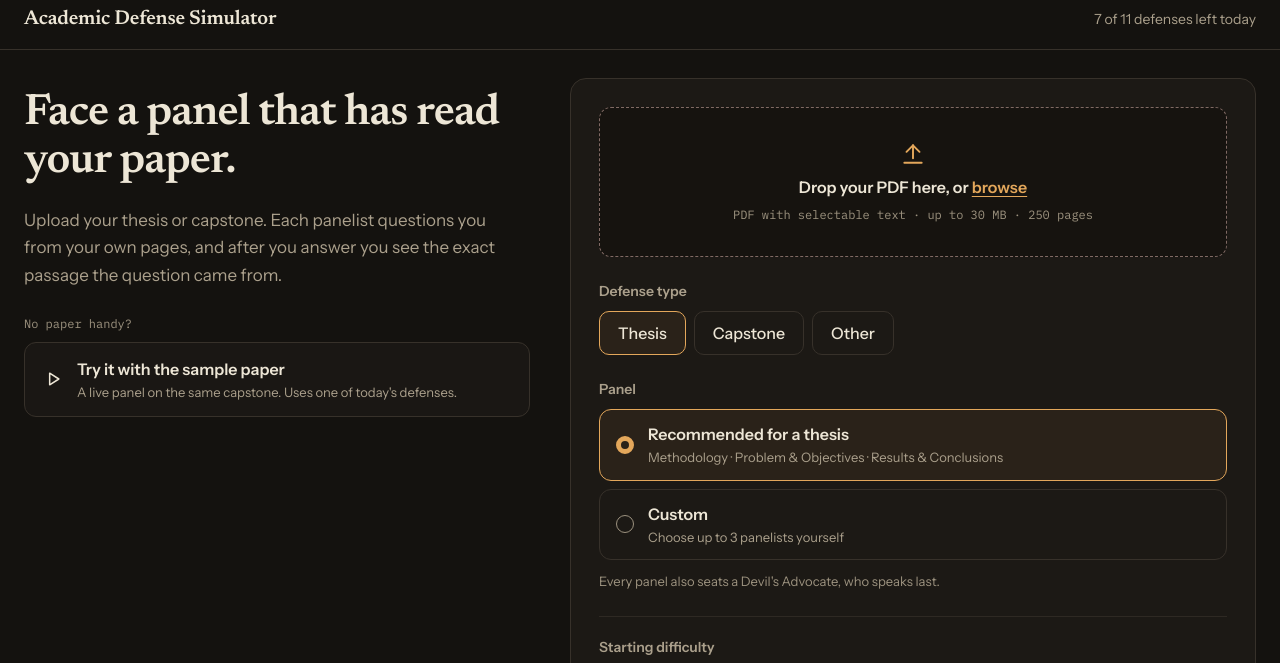
Try it with the sample paper (N5) › says so when the sample paper cannot be loaded
Expected: the text "7 of 11 defenses left today" is shown, [1094, 9, 1256, 29]
Click the button "Try it with the sample paper". click: (277, 379)
box: [24, 342, 530, 417]
(page scrolled)
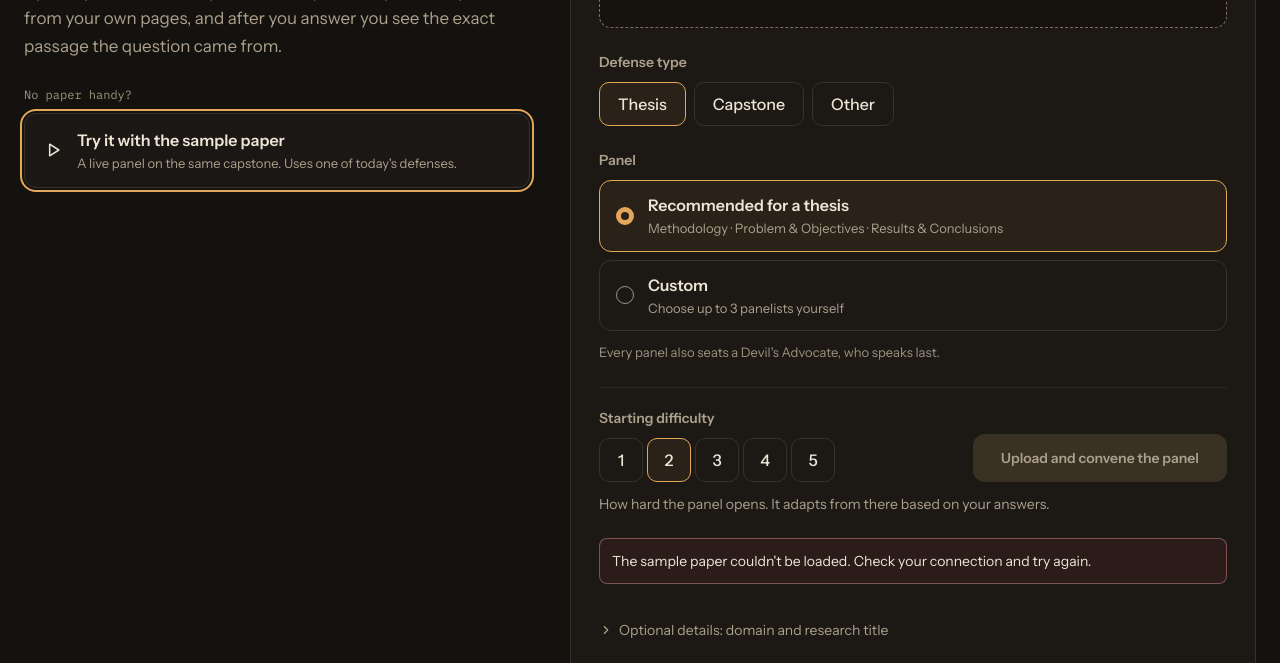
Expected: the text "The sample paper couldn't be loaded" is shown, [612, 552, 1091, 570]
